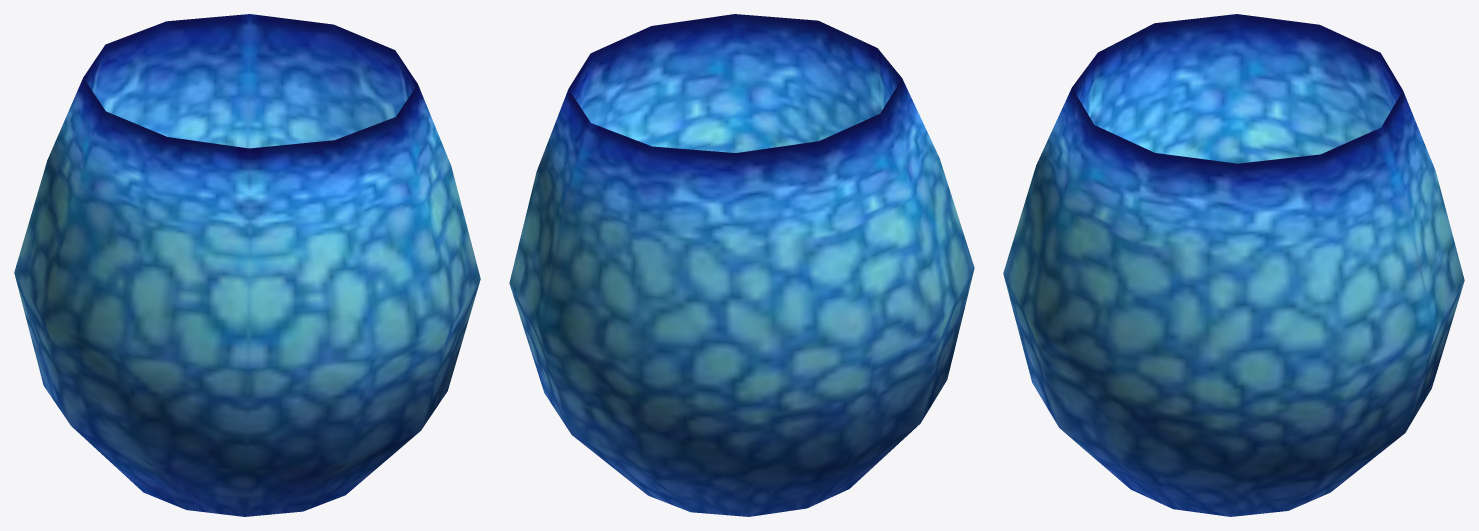
3 renders of one model, left to right at view 1: azimuth 30°, elevation 25°; view 2: azimuth 150°, elevation 25°; view 3: azimuth 270°, elevation 25°, orthographic.
Bounding box in the file's own units: 0.9686 × 0.9627 × 0.9689.
Materials: 1 (1 with a texture image).
